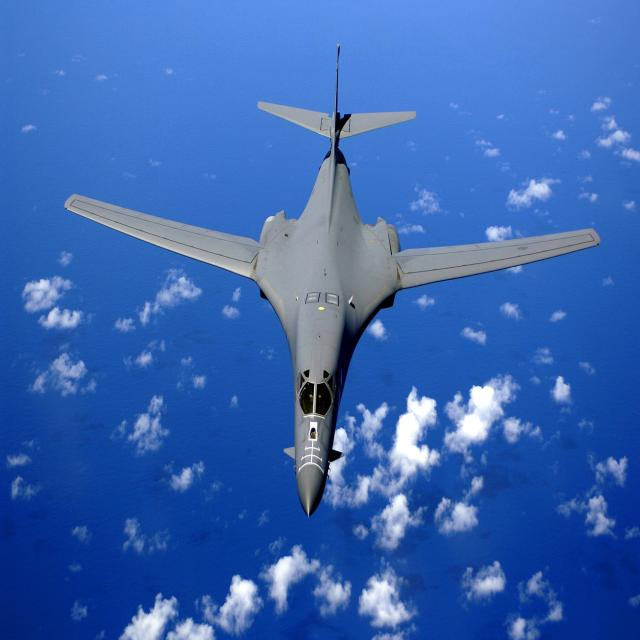MIL_Plane: (64, 42, 601, 519)
